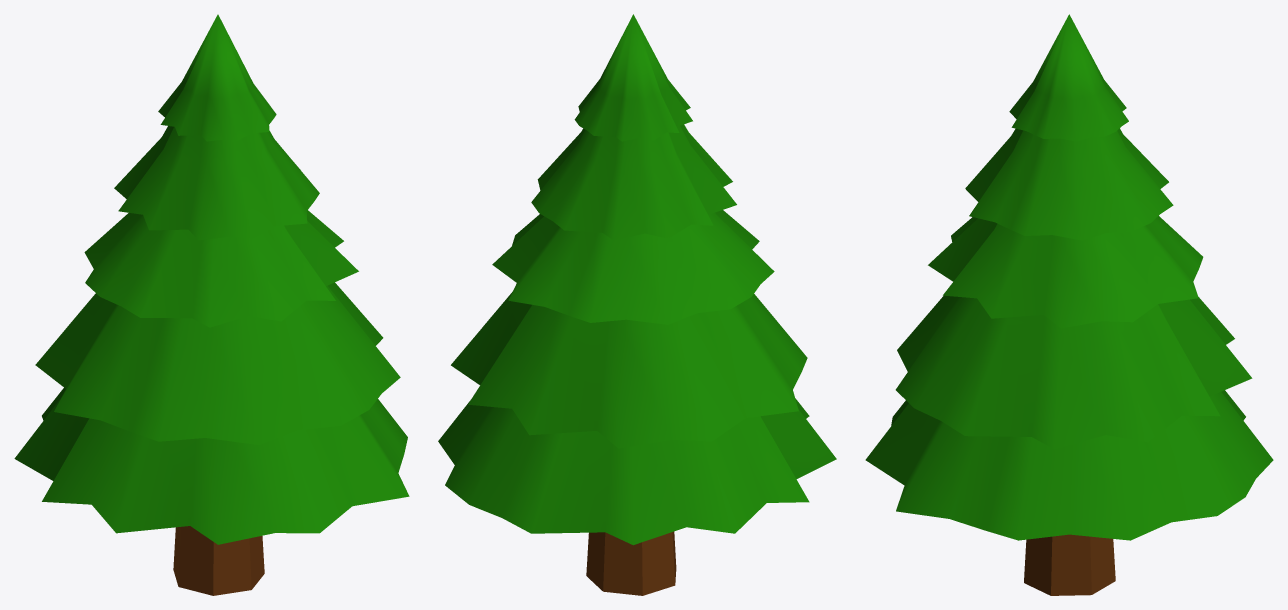
Rendered from SM_PineTree_2.fbx.
3 views of the same model, side by side, from view 1: azimuth 30°, elevation 25°; view 2: azimuth 150°, elevation 25°; view 3: azimuth 270°, elevation 25° (orthographic).
Parts seen in each view (by area): view 1: SM_Pinetree2; view 2: SM_Pinetree2; view 3: SM_Pinetree2.
Boxes of the visible parts, x1,y1,x2,y2 form: SM_Pinetree2: [14, 14, 409, 595]; SM_Pinetree2: [438, 14, 836, 595]; SM_Pinetree2: [865, 14, 1273, 595].
Bounding box in the file's own units: 175 × 276 × 181.
